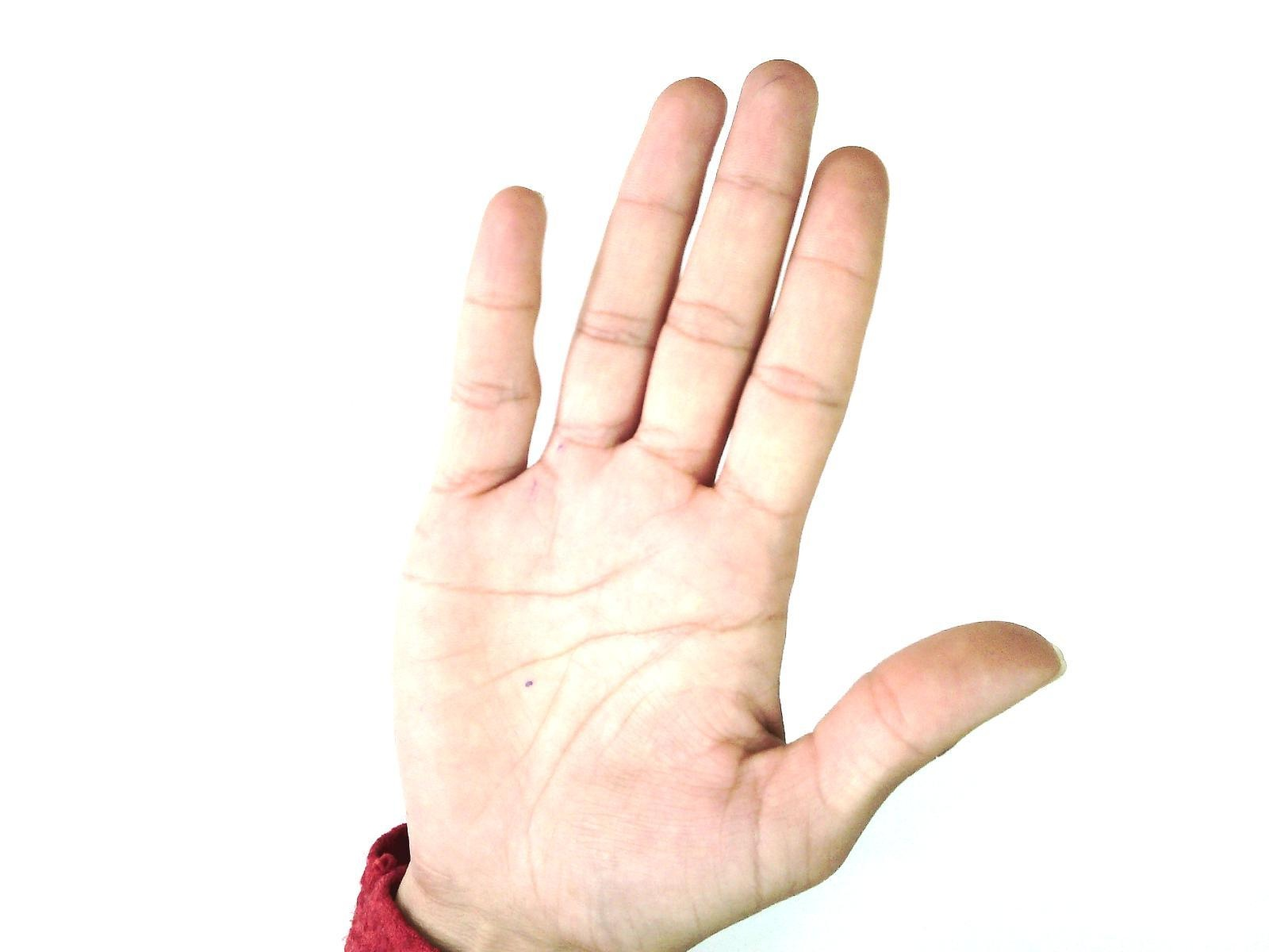open_palm: (381, 58, 1068, 951)
